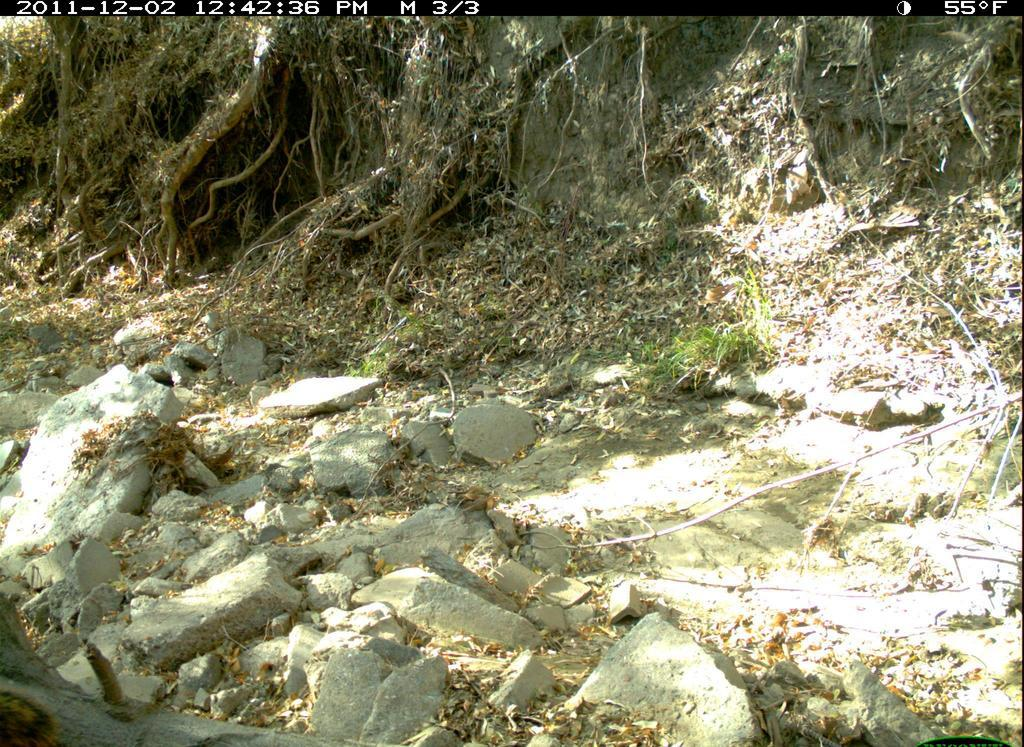squirrel: (1, 675, 73, 747)
